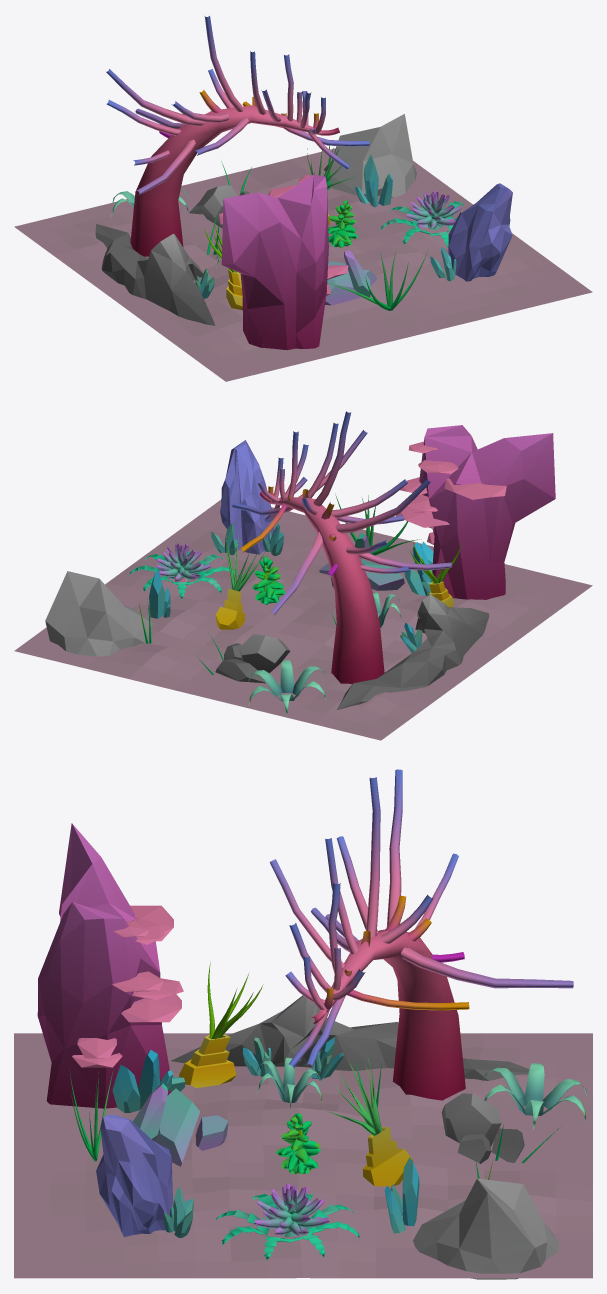
Rendered from Underwater_Scene 2.gltf.
The picture shows the model from 3 angles, top to bottom: view 1: azimuth 30°, elevation 25°; view 2: azimuth 150°, elevation 25°; view 3: azimuth 270°, elevation 25°; orthographic projection. The views are drawn at different scales.
Visible parts, largest first — view 1: Plane; view 2: Plane; view 3: Plane.
Part boxes in pixels (box(x1,y1,x2,y2)): Plane: box(14, 16, 592, 381); Plane: box(14, 411, 592, 740); Plane: box(14, 769, 592, 1279).
Bounding box in the file's own units: 20 × 13.47 × 20.
1 material, 1 textured.
